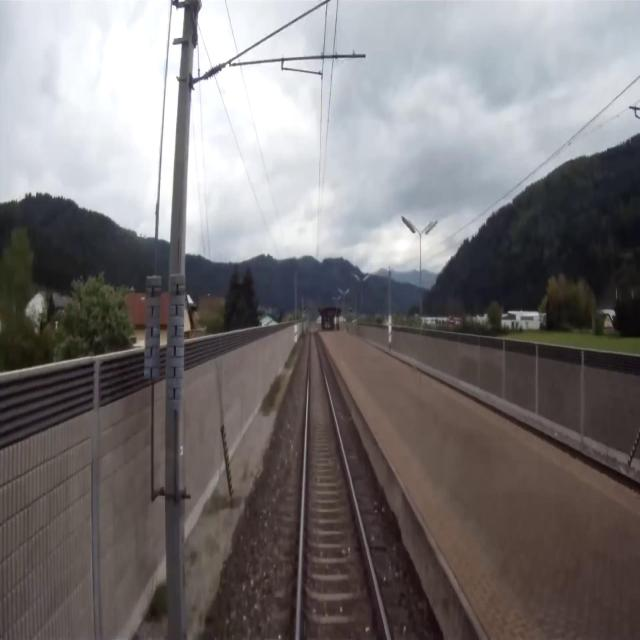rail-track: (300, 325, 386, 639)
